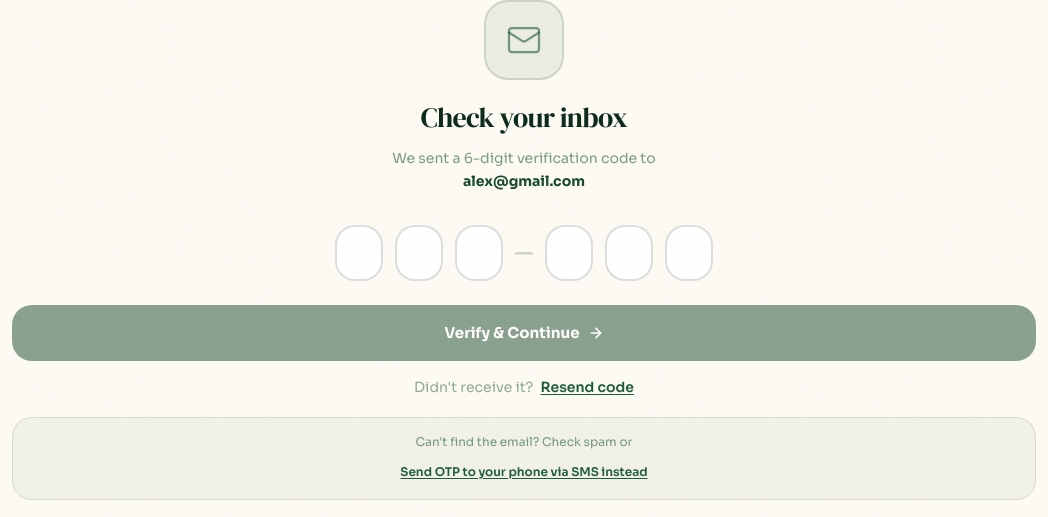
Test: Step3Verify › Verify Button › verify button is enabled when all digits are filled
Step 1. Type "1" into the 1st field titled "code" → (359, 252), box [335, 224, 383, 280]
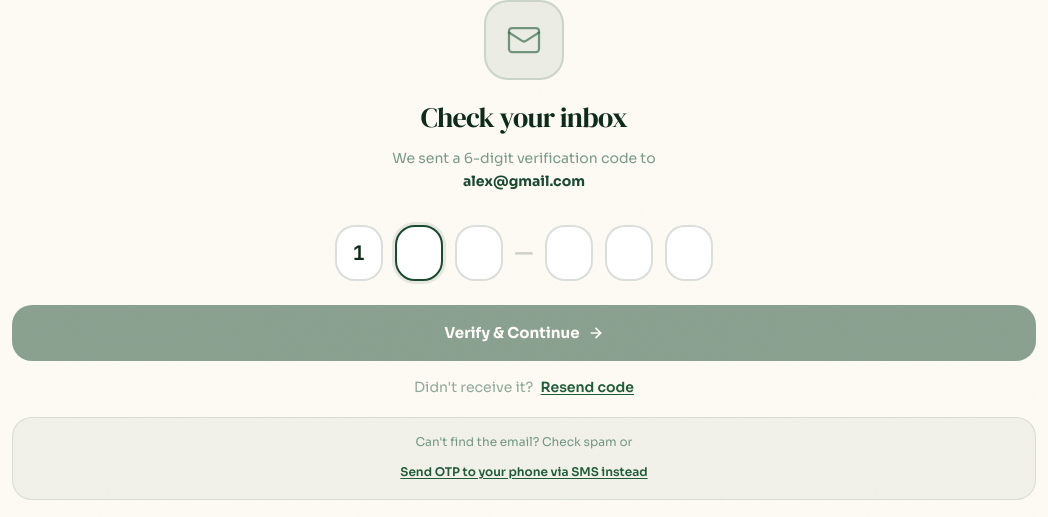
Step 2. Type "2" into the 2nd field titled "code" → (419, 252), box [395, 224, 443, 280]
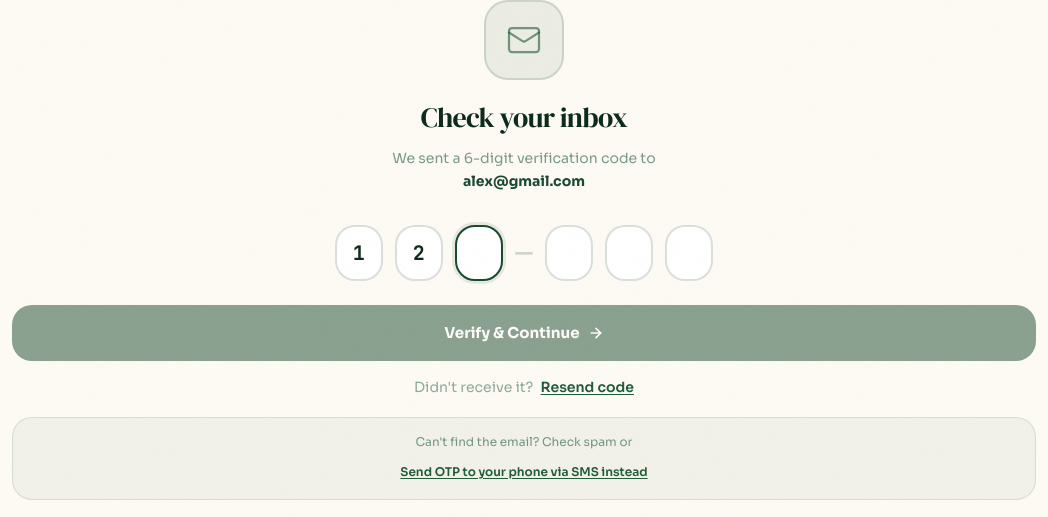
Step 3. Type "3" into the 3rd field titled "code" → (479, 252), box [455, 224, 503, 280]
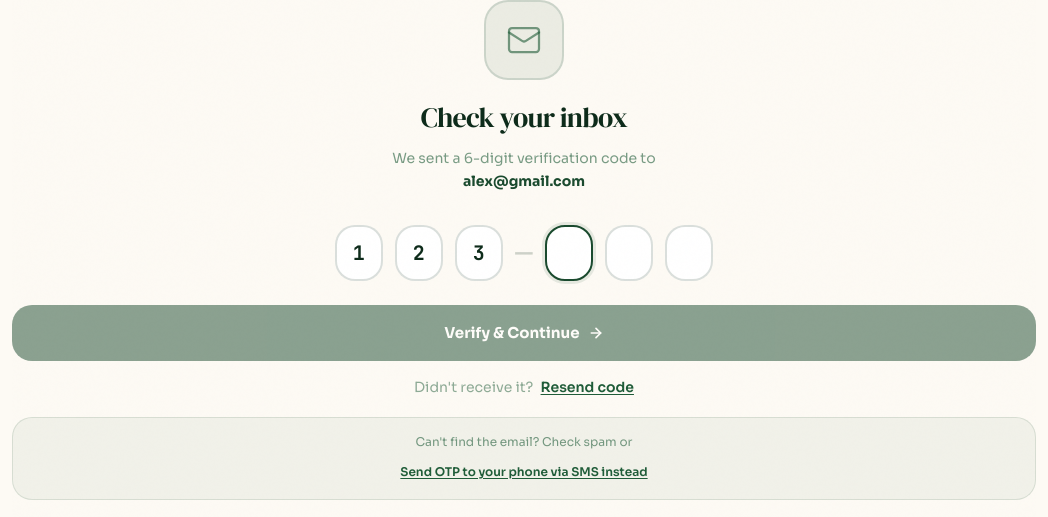
Step 4. Type "4" into the 4th field titled "code" → (569, 252), box [545, 224, 593, 280]
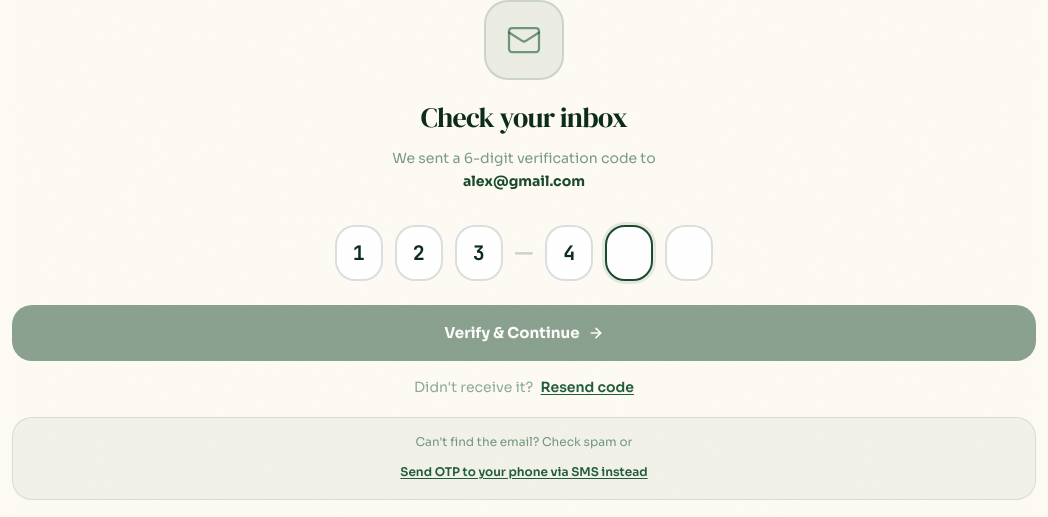
Step 5. Type "5" into the 5th field titled "code" → (629, 252), box [605, 224, 653, 280]
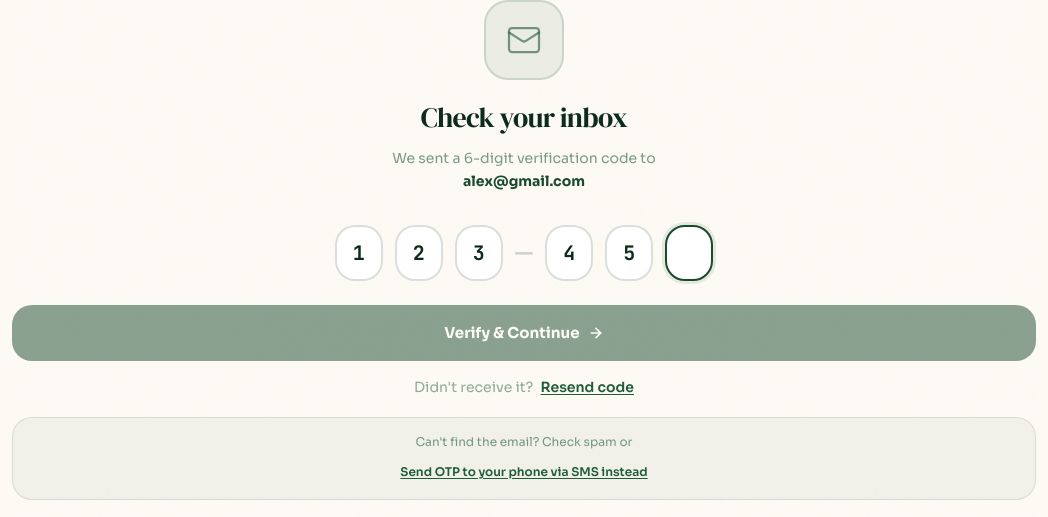
Step 6. Type "6" into the 6th field titled "code" → (689, 252), box [665, 224, 713, 280]
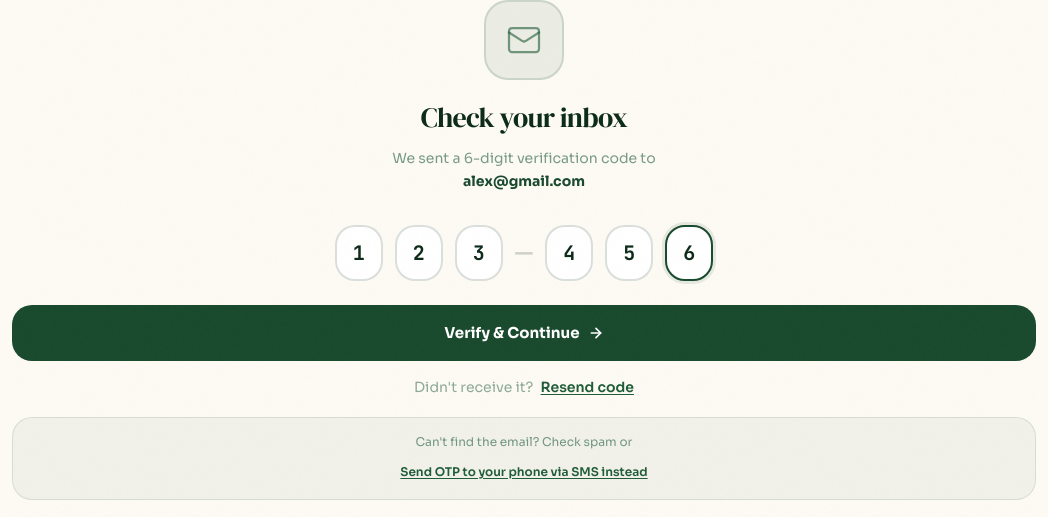
Check: the button "Verify & Continue" is enabled, box [12, 304, 1036, 360]
